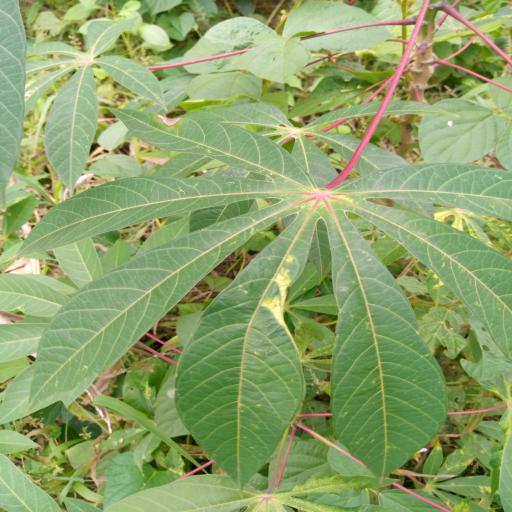Cassava_Mosaic: (14, 104, 512, 490)
